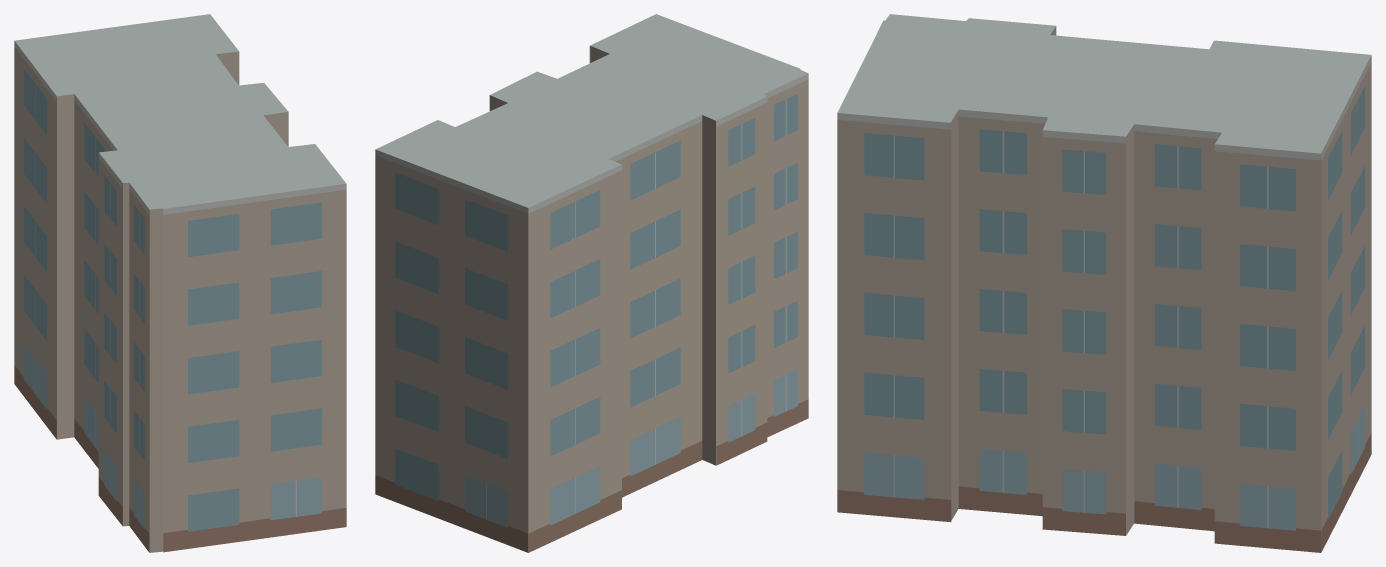
The model's file is survey-upis-32522752.glb.
3 views of the same model, side by side, from view 1: azimuth 30°, elevation 25°; view 2: azimuth 150°, elevation 25°; view 3: azimuth 270°, elevation 25° (orthographic). The views are drawn at different scales.
Parts seen in each view (by area): view 1: survey-upis-32522752.tmp; view 2: survey-upis-32522752.tmp; view 3: survey-upis-32522752.tmp.
Part boxes in pixels (left/top/right/bottom): survey-upis-32522752.tmp: left=14, top=14, right=346, bottom=552; survey-upis-32522752.tmp: left=375, top=14, right=808, bottom=552; survey-upis-32522752.tmp: left=837, top=14, right=1371, bottom=552.
Bounding box in the file's own units: 10.66 × 14.2 × 17.23.
